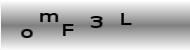3: (89, 15, 103, 29)
F: (61, 23, 73, 37)
L: (120, 12, 132, 26)
m: (39, 12, 59, 22)
o: (20, 28, 33, 39)
